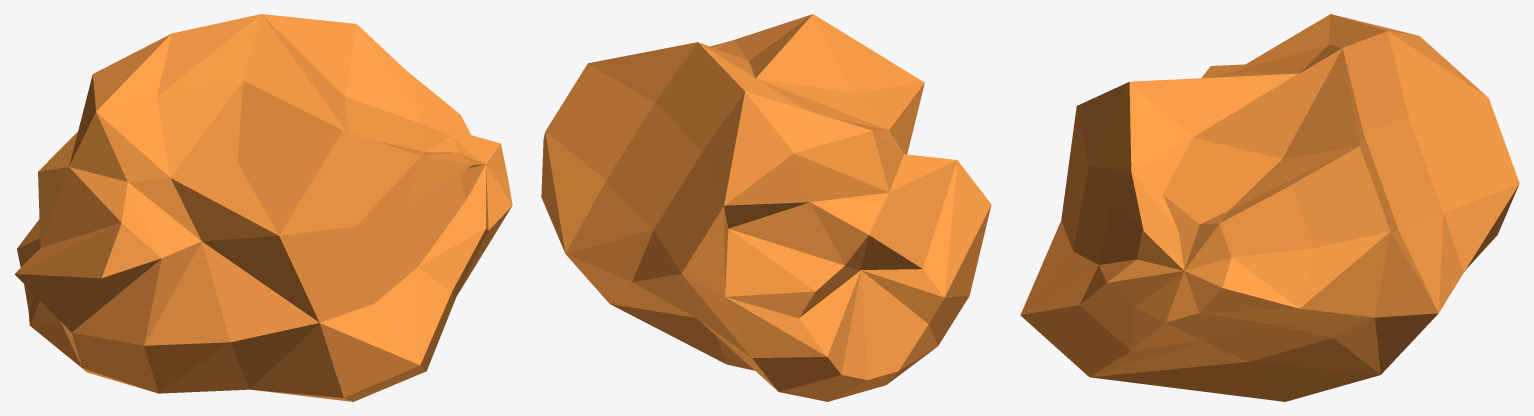
Rendered from meteor.obj.
The picture shows the model from 3 angles, left to right: view 1: azimuth 30°, elevation 25°; view 2: azimuth 150°, elevation 25°; view 3: azimuth 270°, elevation 25°; orthographic projection. The views are drawn at different scales.
Visible parts, largest first — view 1: group1446250878; view 2: group1446250878; view 3: group1446250878.
Part boxes in pixels (left/top/right/bottom): group1446250878: left=15, top=14, right=512, bottom=401; group1446250878: left=541, top=14, right=991, bottom=401; group1446250878: left=1020, top=14, right=1519, bottom=401.
Bounding box in the file's own units: 1.5 × 1.09 × 1.4.
